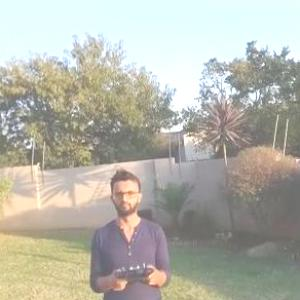follow: (80, 159, 173, 299)
